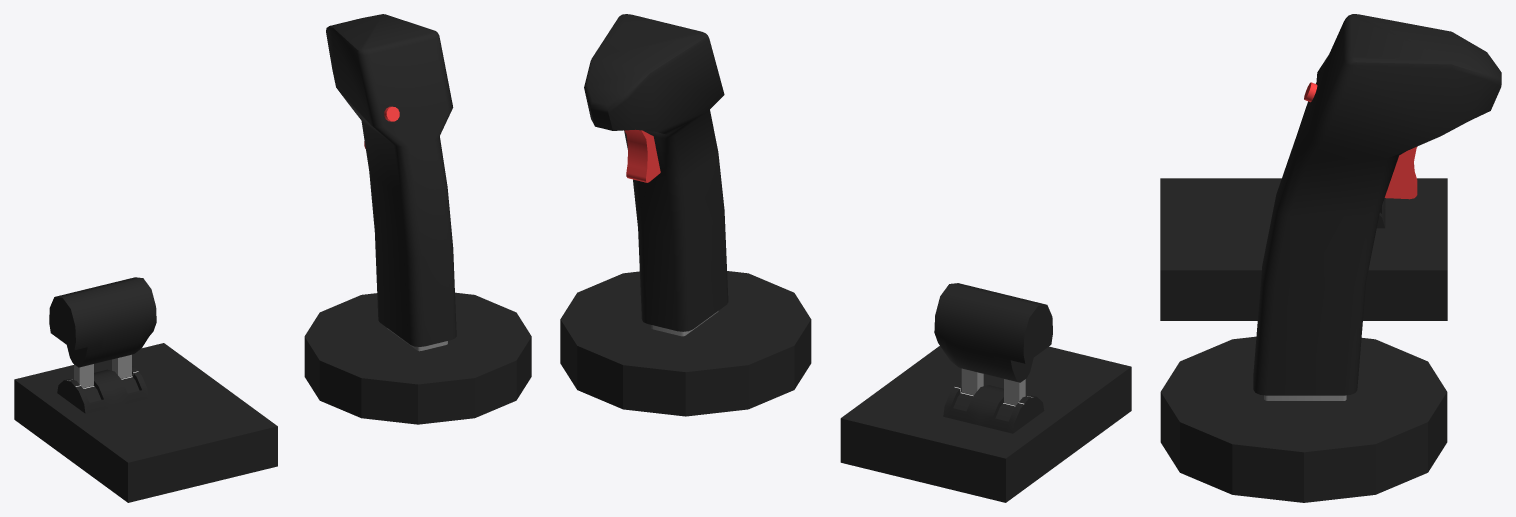
File: ShipControls.fbx
The picture shows the model from 3 angles, left to right: view 1: azimuth 30°, elevation 25°; view 2: azimuth 150°, elevation 25°; view 3: azimuth 270°, elevation 25°; orthographic projection. The views are drawn at different scales.
Visible parts, largest first — view 1: Body, Base, Cylinder, Handle, Handle Base; view 2: Body, Cylinder, Base, Handle, Handle Base, Trigger; view 3: Body, Cylinder, Base, Trigger.
Part boxes in pixels (<box>): Body: <box>326,14,456,351</box>; Base: <box>14,343,277,502</box>; Cylinder: <box>304,292,531,424</box>; Handle: <box>49,277,156,387</box>; Handle Base: <box>57,366,148,413</box>; Body: <box>584,14,728,336</box>; Cylinder: <box>560,271,811,416</box>; Base: <box>840,346,1131,502</box>; Handle: <box>934,283,1052,405</box>; Handle Base: <box>943,381,1044,433</box>; Trigger: <box>624,129,660,182</box>; Body: <box>1253,14,1501,400</box>; Cylinder: <box>1160,336,1447,502</box>; Base: <box>1160,178,1447,320</box>; Trigger: <box>1384,146,1417,199</box>.
Size of the model in its own units: 49.65 by 34.31 by 26.14.
